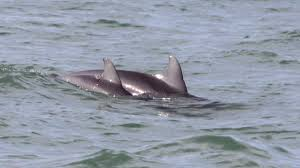fin: (44, 54, 145, 111), (121, 50, 213, 109)
